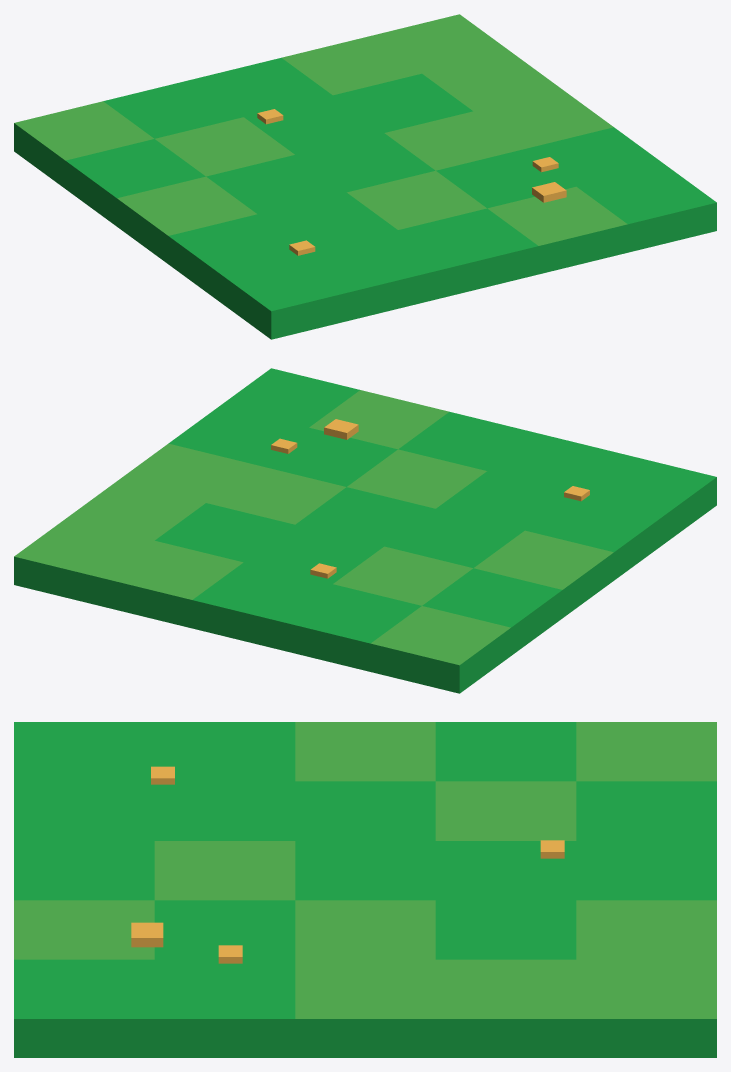
Rendered from Ground_02.FBX.
3 renders of one model, top to bottom at view 1: azimuth 30°, elevation 25°; view 2: azimuth 150°, elevation 25°; view 3: azimuth 270°, elevation 25°, orthographic. The views are drawn at different scales.
Visible parts, largest first — view 1: Ground_002; view 2: Ground_002; view 3: Ground_002.
Boxes of the visible parts, box(x1,y1,x2,y2) form: Ground_002: box(14, 14, 716, 339); Ground_002: box(14, 368, 716, 693); Ground_002: box(14, 722, 716, 1057).
Bounding box in the file's own units: 30 × 30 × 2.28.
